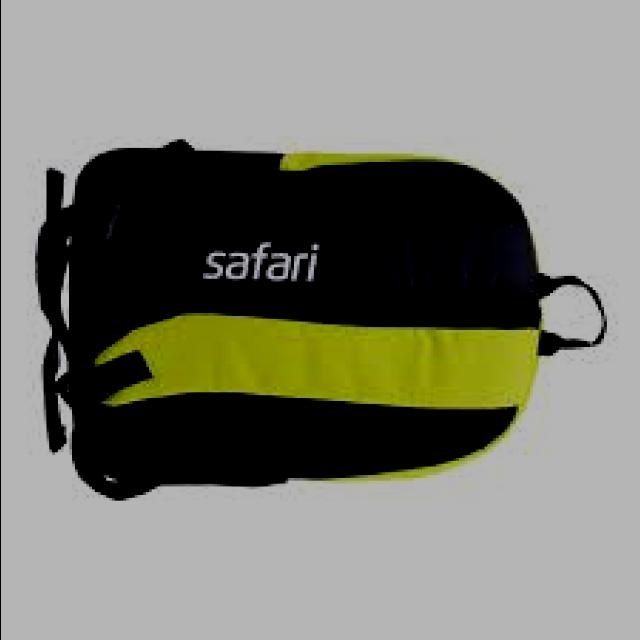backpack: (38, 138, 610, 502)
